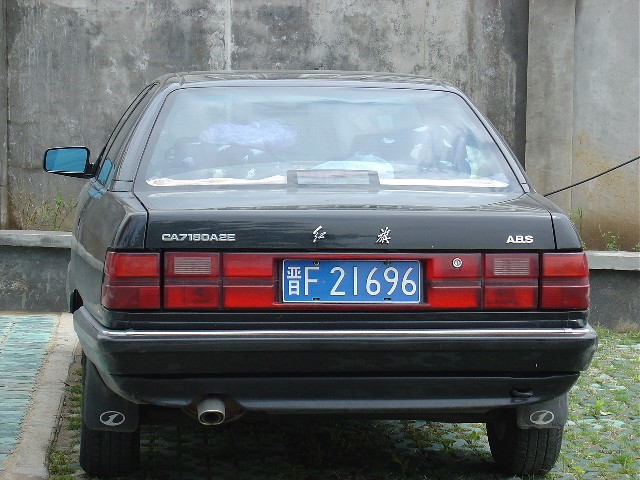plate_number: (282, 257, 420, 308)
